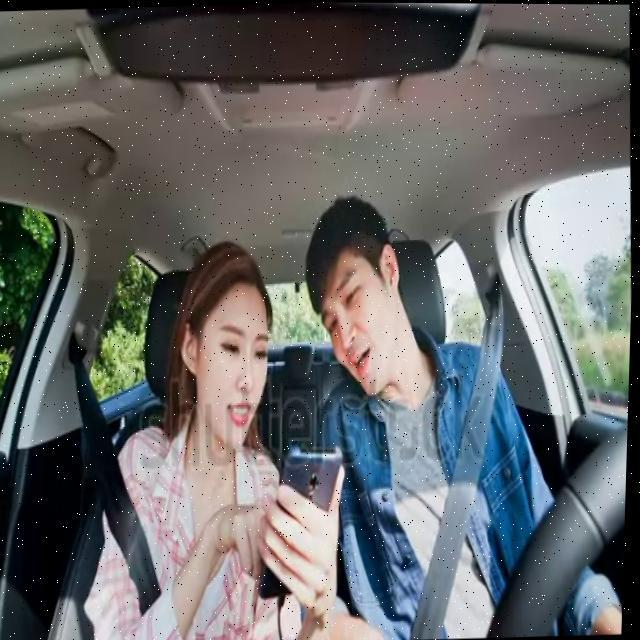PhoneCall: (261, 440, 349, 600)
